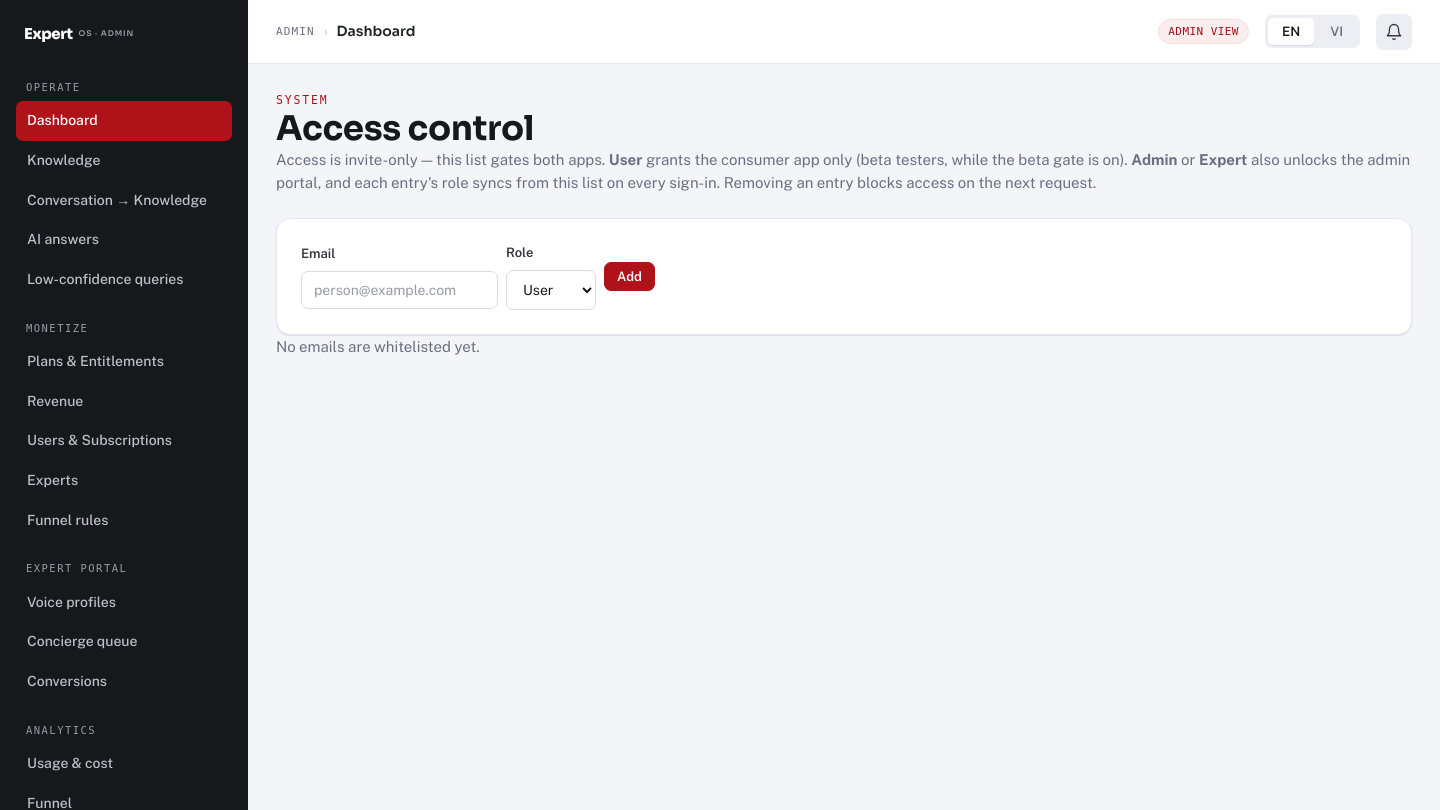
it: AccessControlPage — add › rejects a blank email client-side without posting
The image size is (1440, 810).
Expected: the text "No emails are whitelisted yet." is shown, [276,338,480,354]
What coordinates should you click on to do the following:
click the button "Add"
I would click on:
 (629, 276)
Its box is [604,262,655,291].
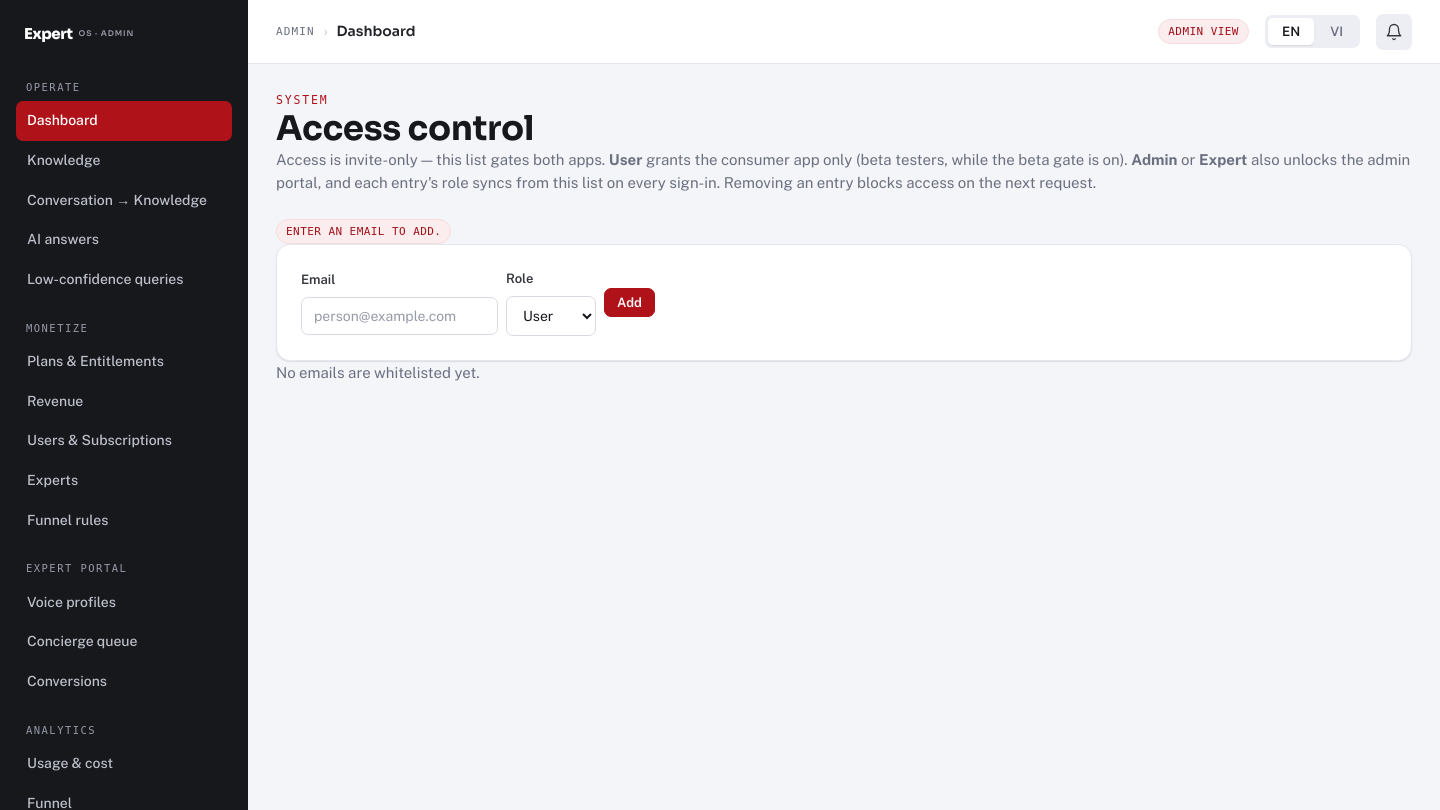
Expected: the text "Enter an email to add." is shown, [276,219,451,244]
